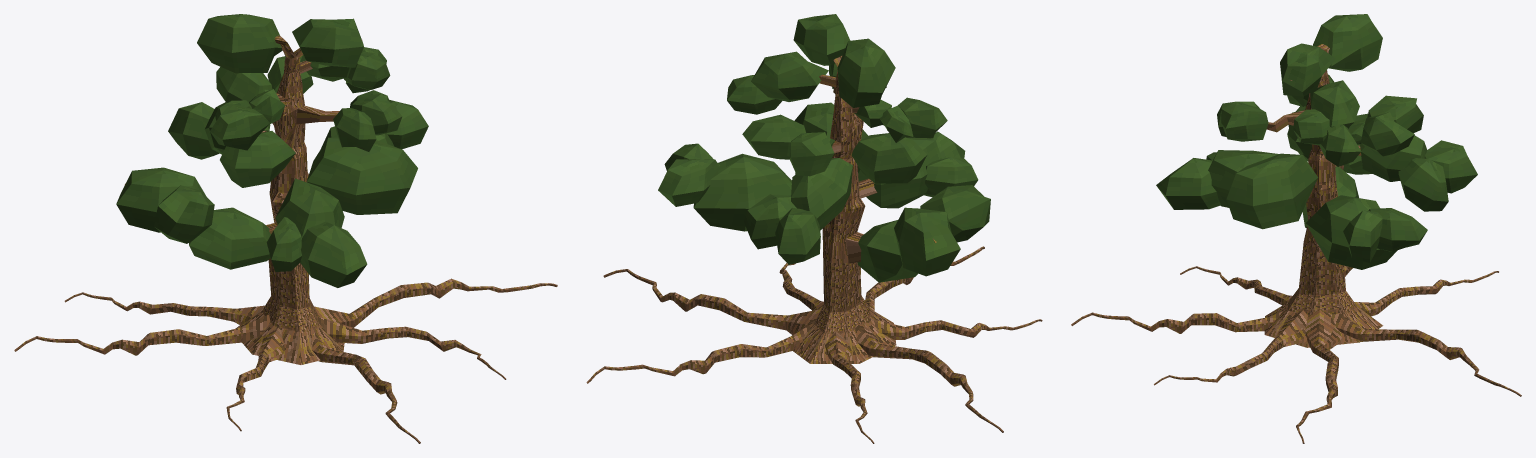
The model's file is OldTree.fbx.
3 views of the same model, side by side, from view 1: azimuth 30°, elevation 25°; view 2: azimuth 150°, elevation 25°; view 3: azimuth 270°, elevation 25° (orthographic). The views are drawn at different scales.
Visible parts, largest first — view 1: tree; view 2: tree; view 3: tree.
Boxes of the visible parts, x1,y1,x2,y2 form: tree: [14, 14, 557, 443]; tree: [586, 14, 1042, 443]; tree: [1071, 14, 1521, 443].
Size of the model in its own units: 10.59 by 6.96 by 9.5.
